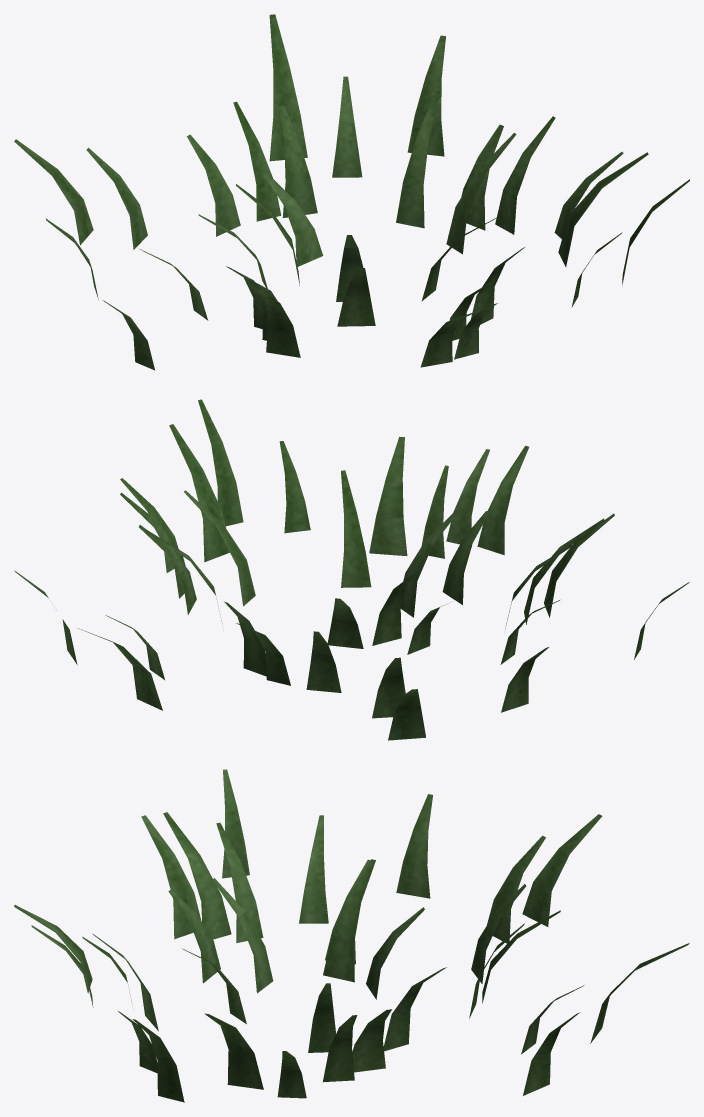
File: grass_tuft_1.glb
The picture shows the model from 3 angles, top to bottom: view 1: azimuth 30°, elevation 25°; view 2: azimuth 150°, elevation 25°; view 3: azimuth 270°, elevation 25°; orthographic projection. The views are drawn at different scales.
Parts seen in each view (by area): view 1: grass_tuft_1; view 2: grass_tuft_1; view 3: grass_tuft_1.
Part boxes in pixels (bbox=[...]): grass_tuft_1: bbox=[14, 14, 689, 370]; grass_tuft_1: bbox=[14, 399, 689, 740]; grass_tuft_1: bbox=[14, 769, 689, 1102].
Size of the model in its own units: 1.08 by 0.1971 by 1.13.
1 material, 1 textured.
